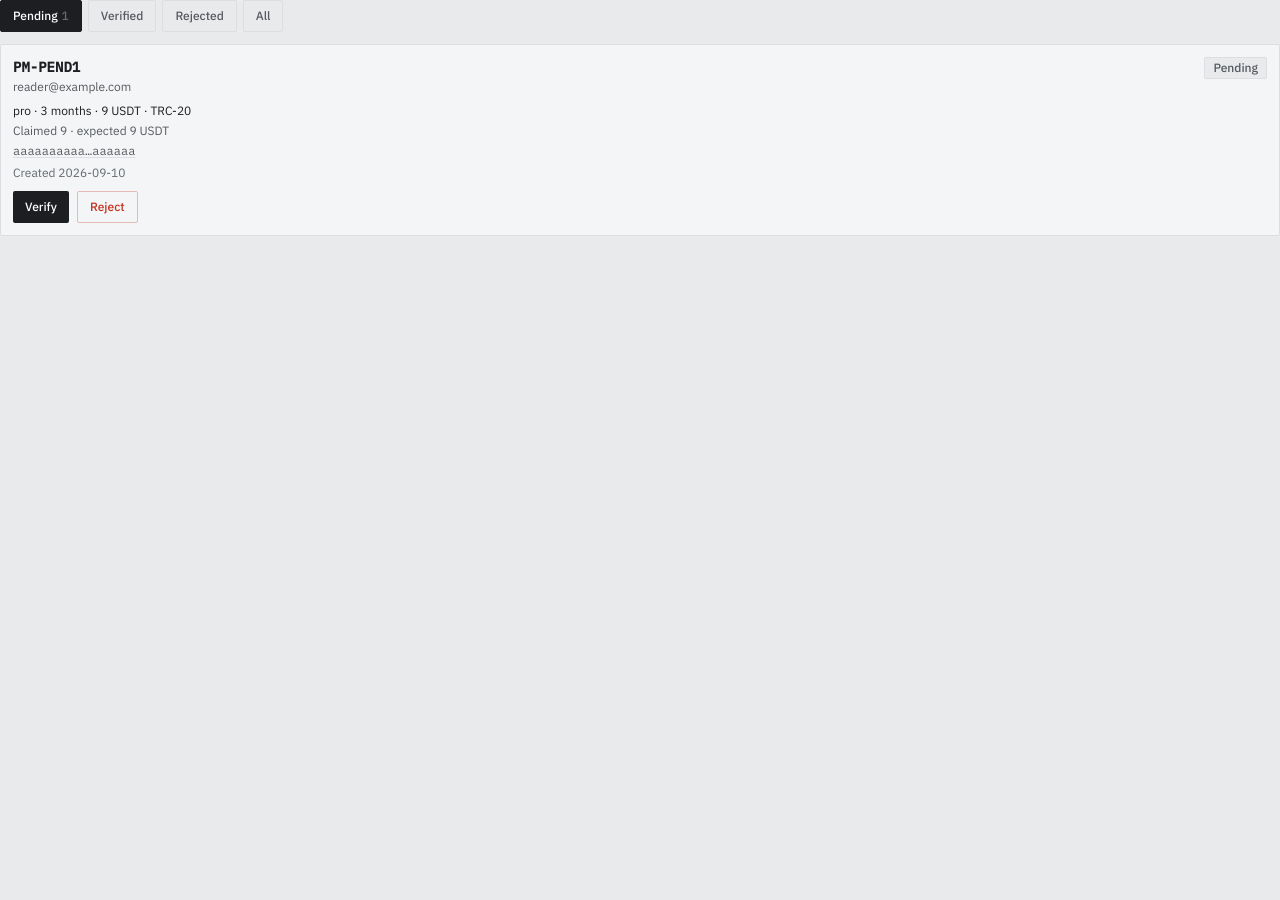
verifies from the queue and refreshes
Expected: the list item with test id "admin-order-row" is shown, [0,44,1279,236]
Click the button with test id "verify-button" at (41, 207), box [13,191,69,223]
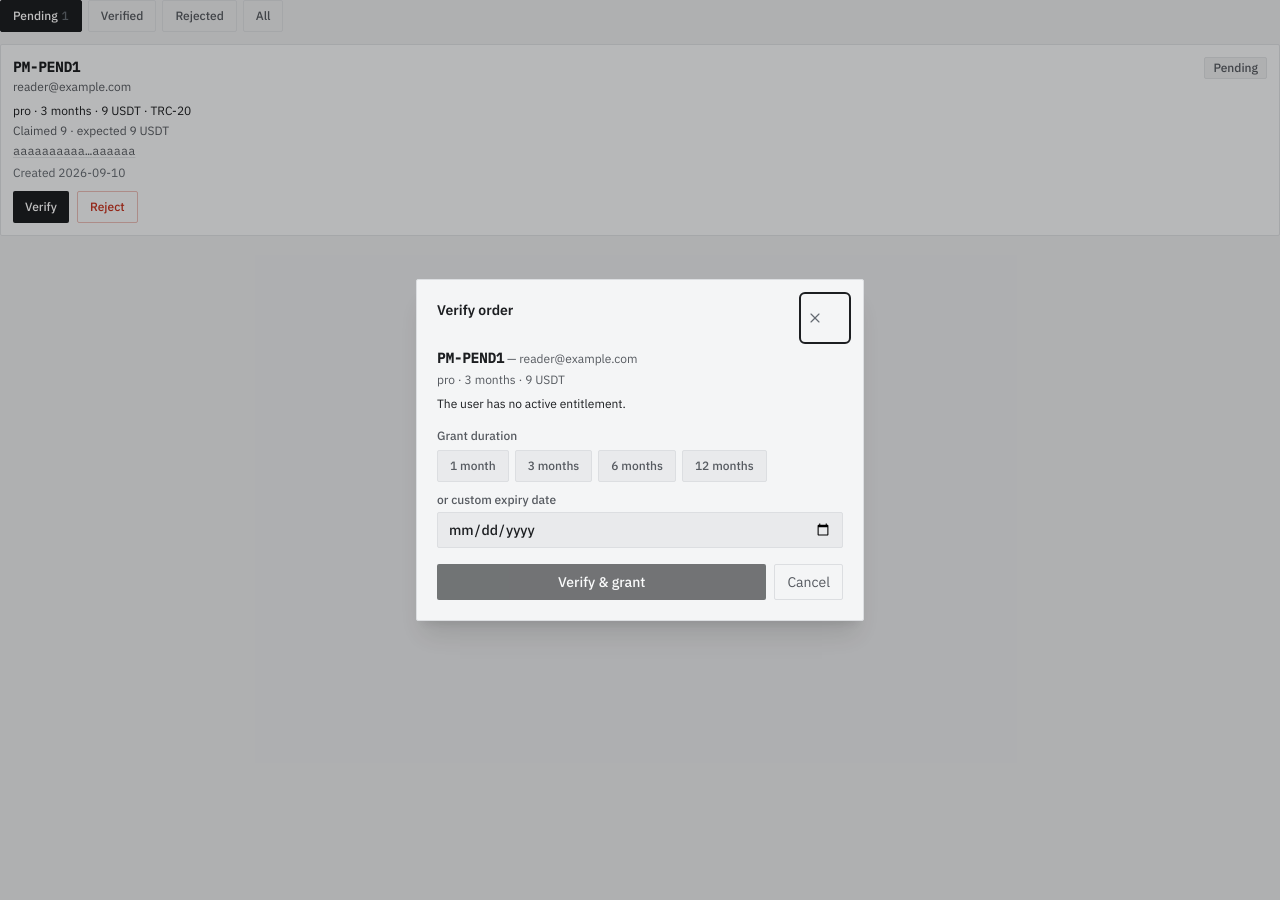
Result: the dialog with test id "verify-dialog" is shown at [416,279,864,621]
Click the button with test id "duration-1" at (473, 466), box [437,450,509,482]
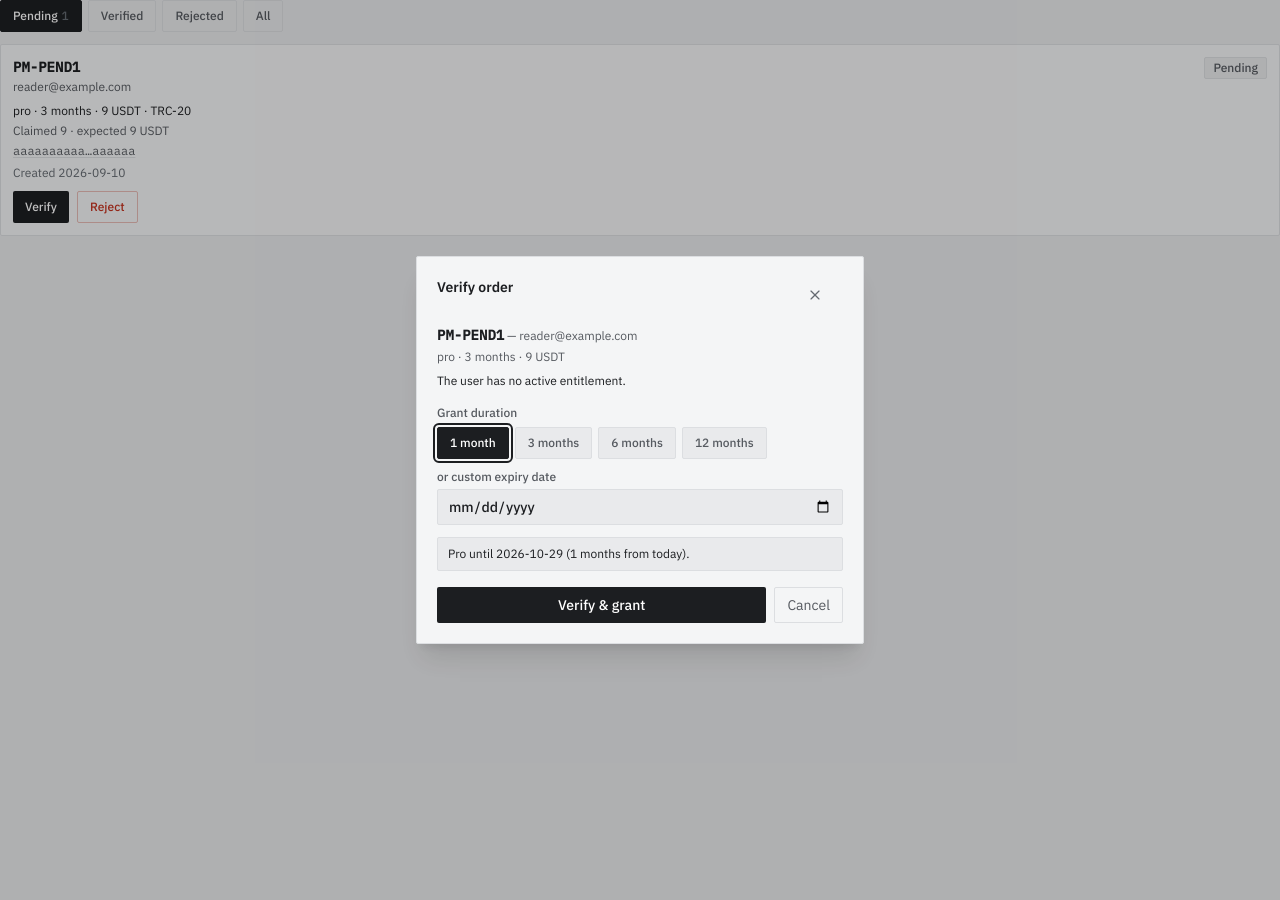
Click the button with test id "confirm-verify" at (602, 605), box [437,587,766,623]
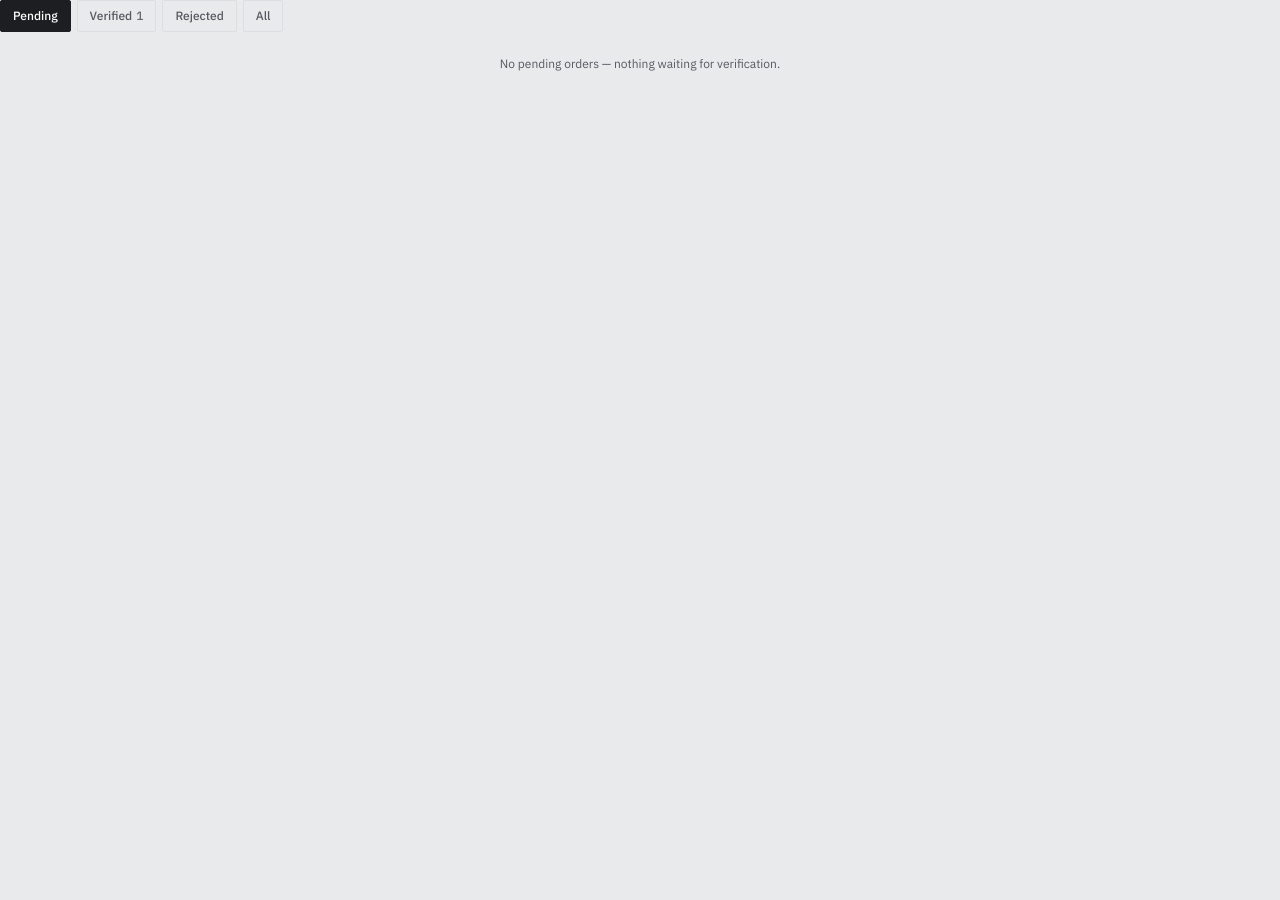
Result: the dialog with test id "verify-dialog" is gone
Click the button with test id "filter-verified" at (116, 16), box [77,0,156,32]
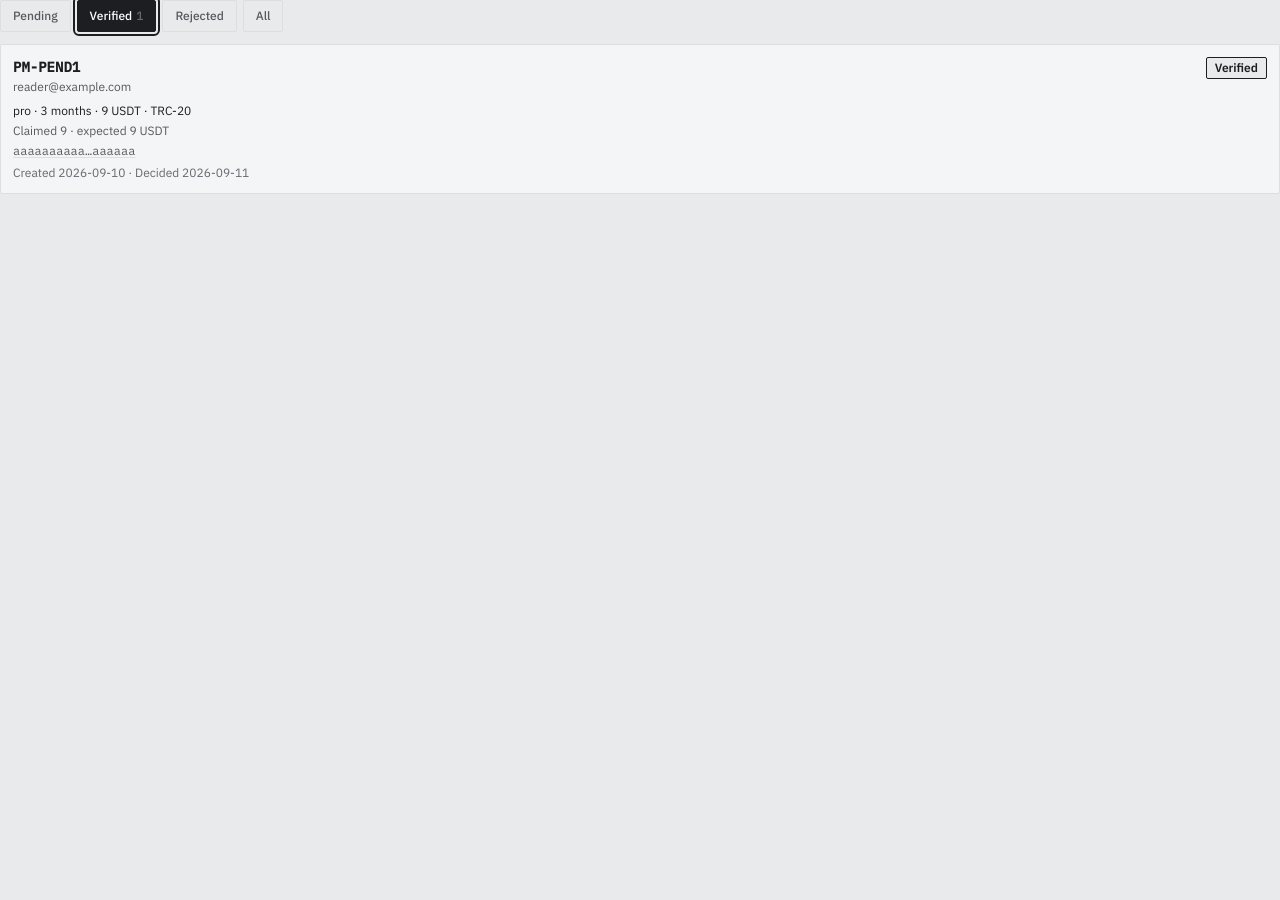
Result: the text "PM-PEND1" is shown at [13,58,80,76]
Result: the list item with test id "admin-order-row" shows "Verified" at [1215,60,1258,75]
